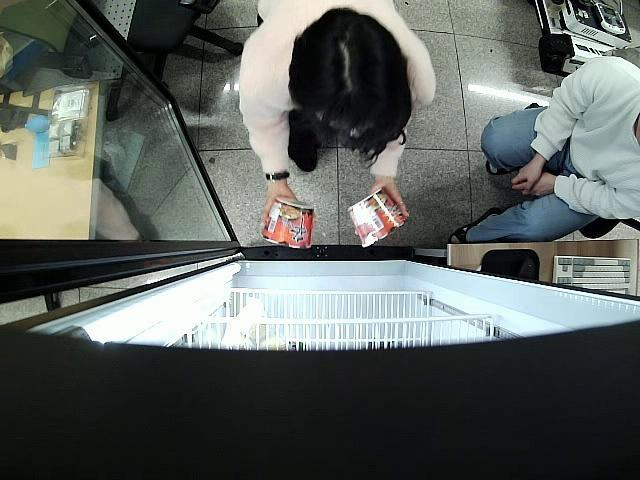01_ShinRamen_L: (346, 187, 406, 245), (260, 197, 315, 249)
